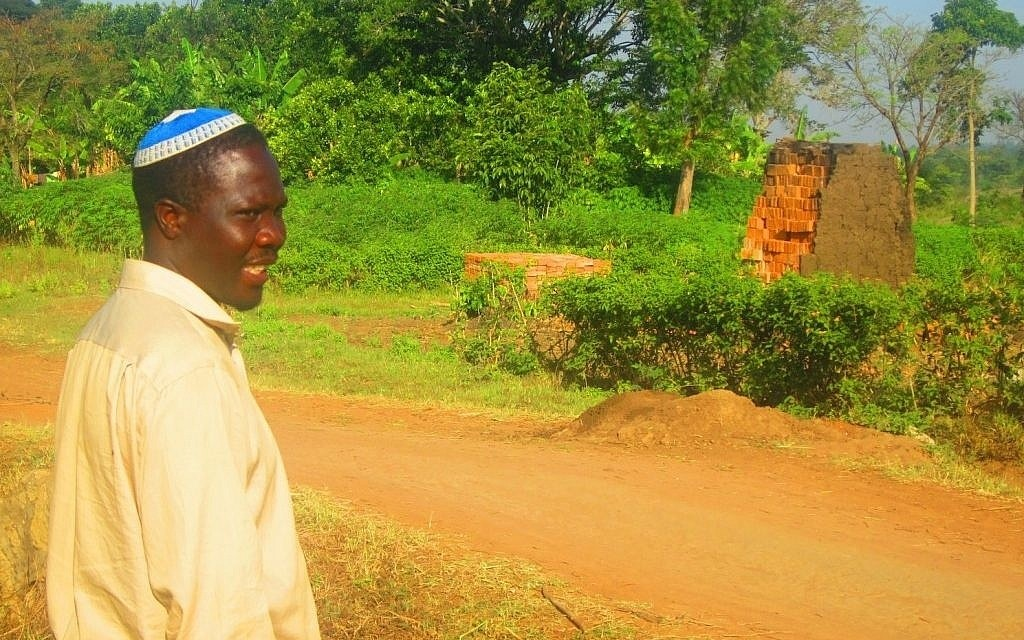face_no_mask: (141, 115, 299, 321)
